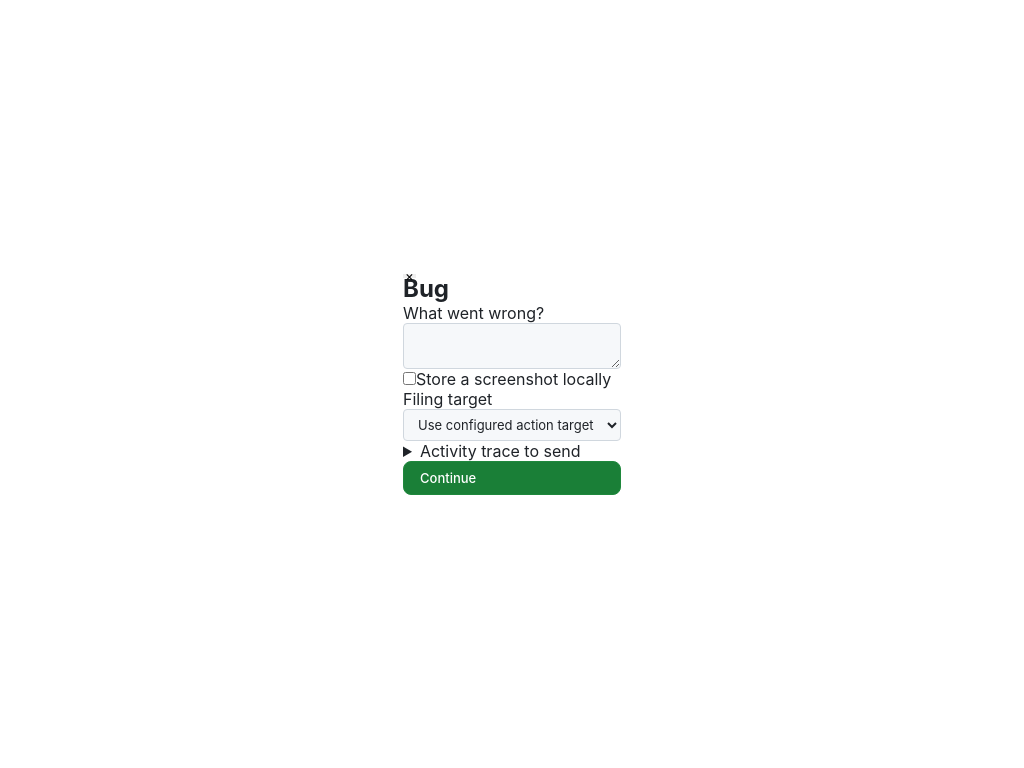
ReportModal › returns a failed screenshot capture to an accessible retryable prompt without empty controls
In the text box labelled "What went wrong?": (512, 346) top-left (403, 322), bottom-right (621, 368), type "It crashes"
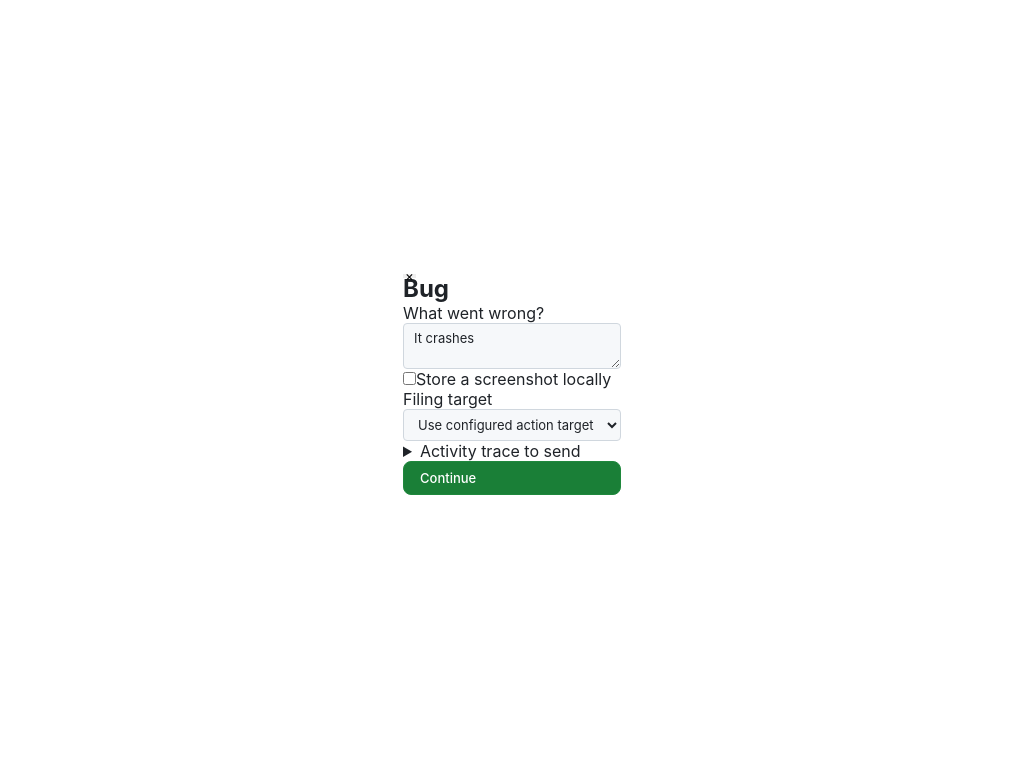
Click the checkbox labelled "Store a screenshot locally": (410, 378) top-left (403, 372), bottom-right (416, 385)
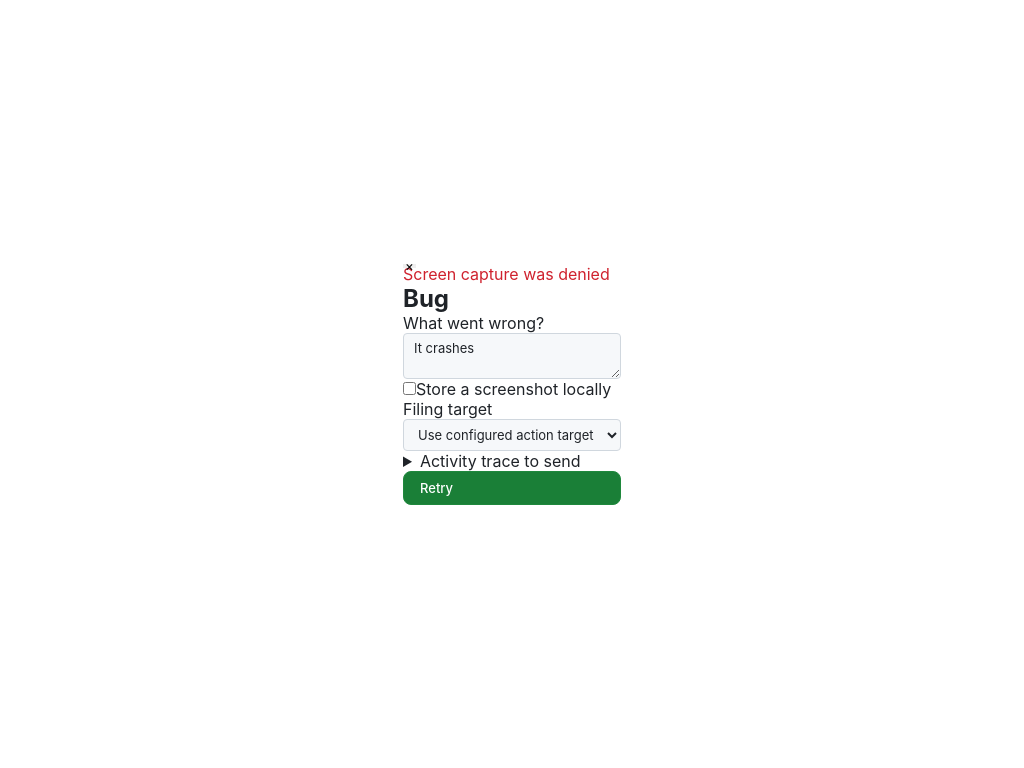
Check: the checkbox labelled "Store a screenshot locally" is not checked, box top-left (403, 382), bottom-right (416, 395)
Check: the button "Retry" is enabled, box top-left (403, 470), bottom-right (621, 504)
Check: the message reads "Screen capture was denied", box top-left (403, 264), bottom-right (610, 284)
